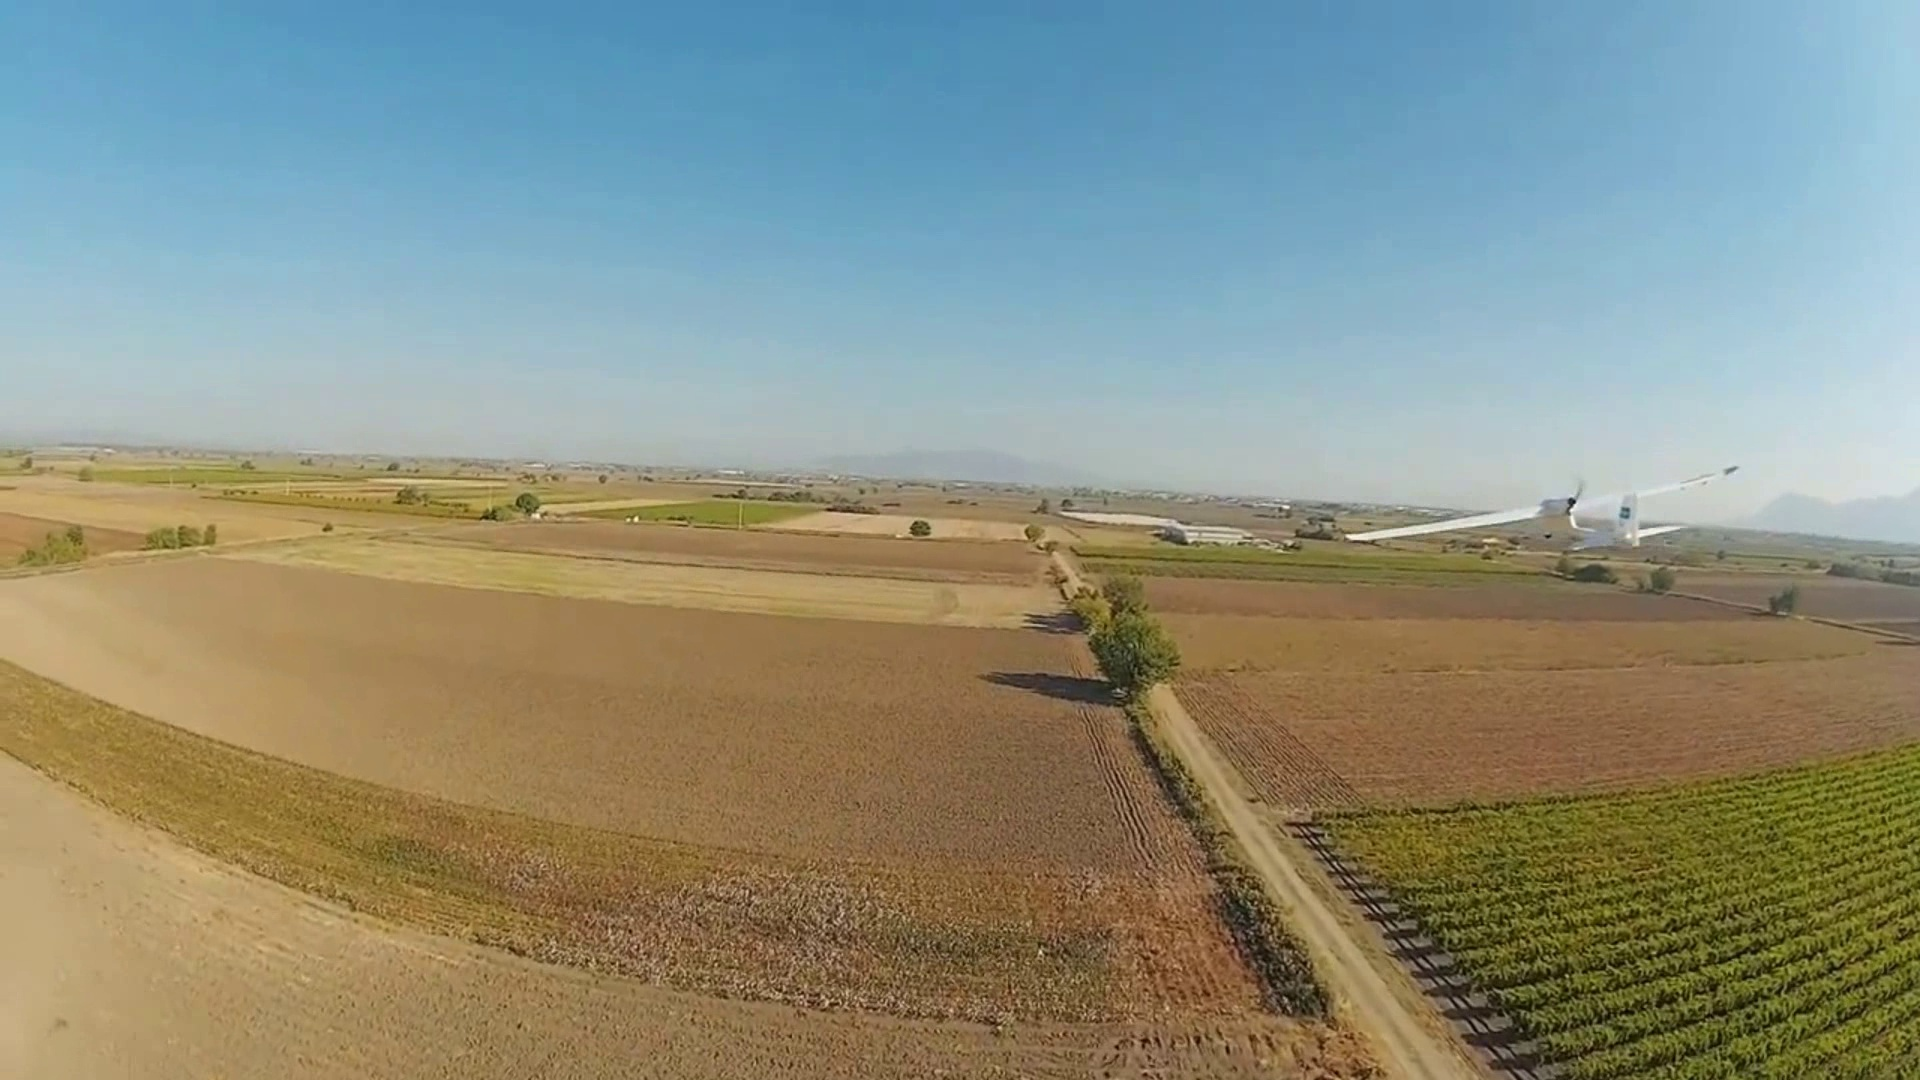airplane: (1341, 455, 1741, 551), (1542, 461, 1745, 546)
